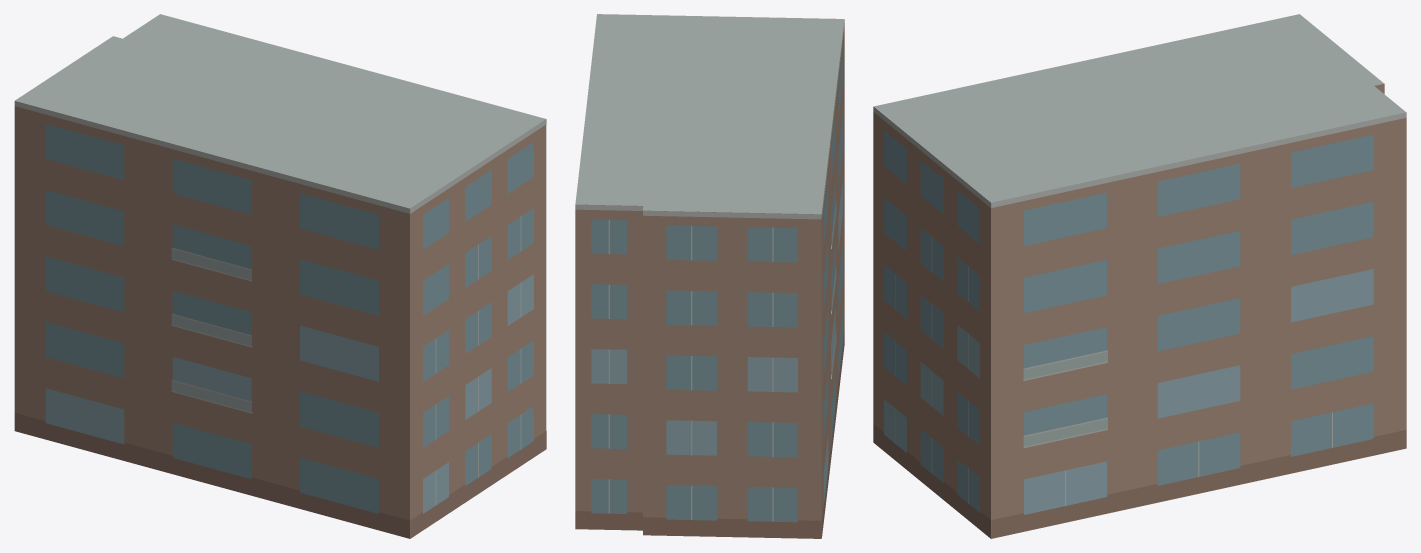
The model's file is survey-upis-32832688.glb.
The picture shows the model from 3 angles, left to right: view 1: azimuth 30°, elevation 25°; view 2: azimuth 150°, elevation 25°; view 3: azimuth 270°, elevation 25°; orthographic projection. The views are drawn at different scales.
Visible parts, largest first — view 1: survey-upis-32832688.tmp; view 2: survey-upis-32832688.tmp; view 3: survey-upis-32832688.tmp.
Boxes of the visible parts, bbox=[...] form: survey-upis-32832688.tmp: bbox=[14, 14, 546, 538]; survey-upis-32832688.tmp: bbox=[575, 14, 844, 538]; survey-upis-32832688.tmp: bbox=[873, 14, 1406, 538].
Size of the model in its own units: 18.57 by 15.4 by 22.15.
